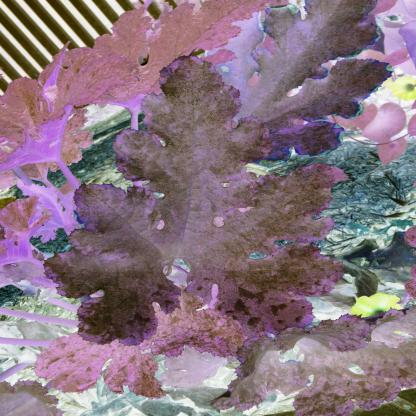squash powdery mildew leaf: (34, 60, 334, 344), (241, 0, 397, 161), (228, 314, 416, 409)
